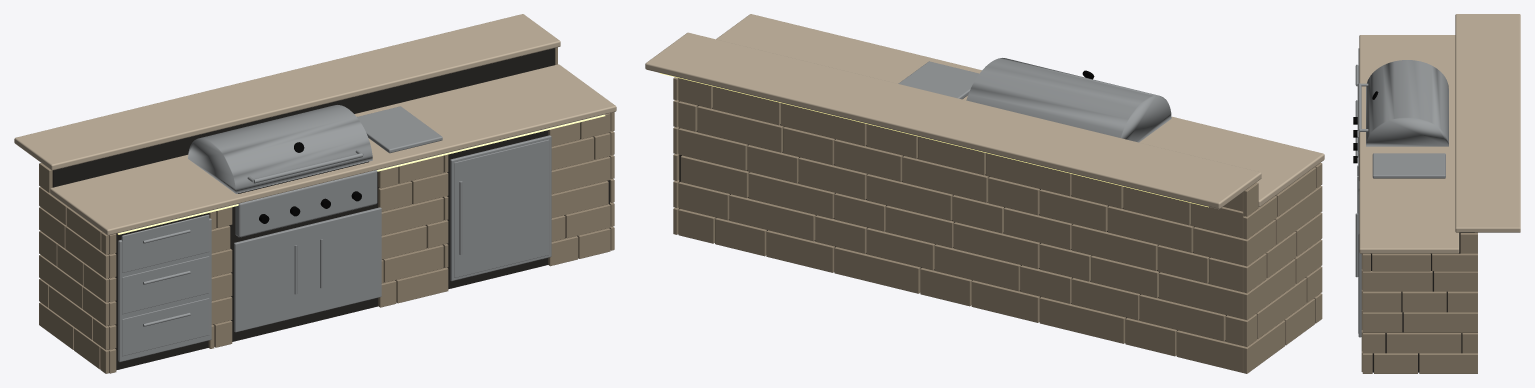
File: kitchen-island-lod0.glb
3 views of the same model, side by side, from view 1: azimuth 30°, elevation 25°; view 2: azimuth 150°, elevation 25°; view 3: azimuth 270°, elevation 25° (orthographic). The views are drawn at different scales.
Visible parts, largest first — view 1: Brushed stainless steel, Honed warm quartz counter, Greyed nickel stone veneer, Recessed joint, Warm LED strip, 2700 K; view 2: Greyed nickel stone veneer, Honed warm quartz counter, Brushed stainless steel, Warm LED strip, 2700 K; view 3: Honed warm quartz counter, Greyed nickel stone veneer, Brushed stainless steel, Recessed joint, Black control knob.
Boxes of the visible parts, x1,y1,x2,y2 form: Brushed stainless steel: (118, 105, 551, 361); Honed warm quartz counter: (14, 14, 616, 235); Greyed nickel stone veneer: (39, 47, 614, 373); Recessed joint: (52, 48, 609, 370); Warm LED strip, 2700 K: (117, 114, 605, 234); Greyed nickel stone veneer: (673, 77, 1322, 373); Honed warm quartz counter: (645, 14, 1324, 209); Brushed stainless steel: (898, 58, 1171, 142); Warm LED strip, 2700 K: (660, 73, 1208, 207); Honed warm quartz counter: (1359, 14, 1520, 253); Greyed nickel stone veneer: (1361, 232, 1477, 373); Brushed stainless steel: (1355, 48, 1448, 337); Recessed joint: (1371, 232, 1474, 372); Black control knob: (1353, 91, 1378, 163).
Bounding box in the file's own units: 3.35 × 1.14 × 1.11.
